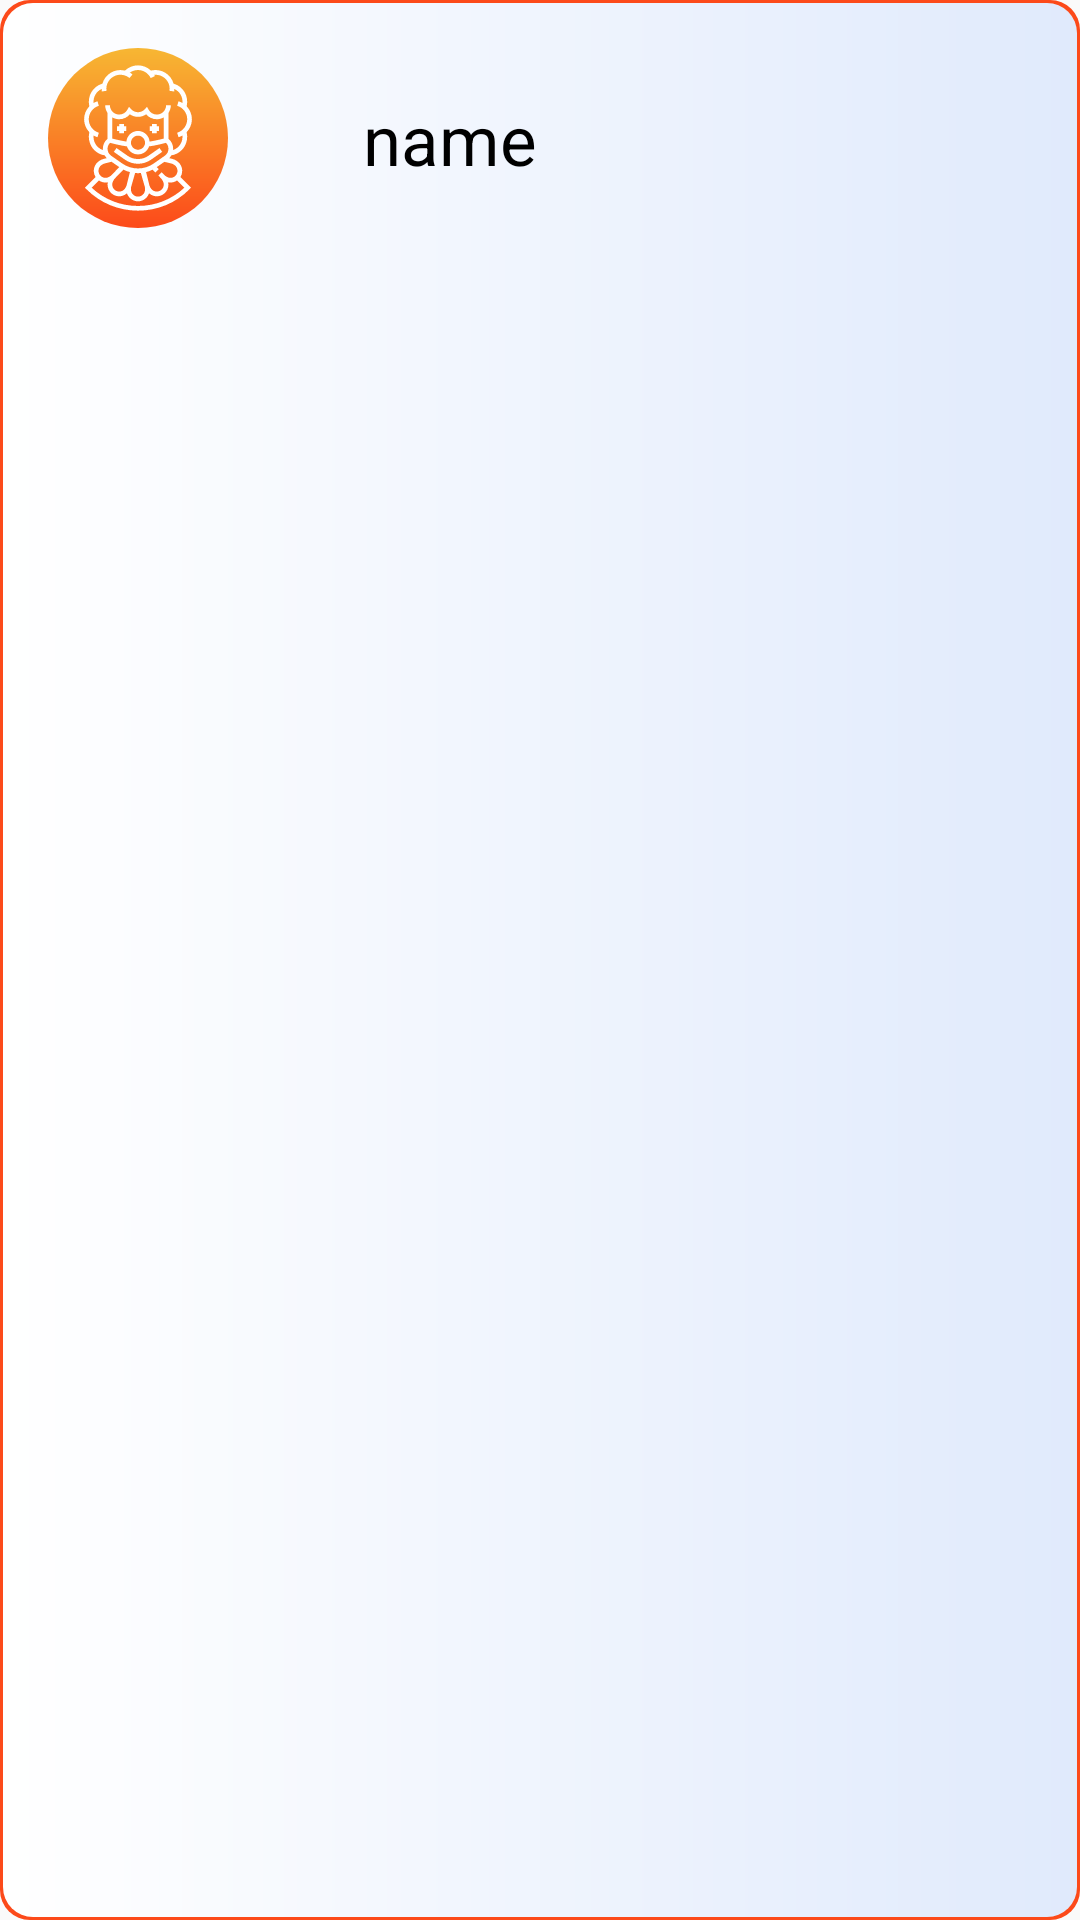

Icon click points for this 1080x1920 phone screenshot, format point (x, y):
joker: point (138, 138)
